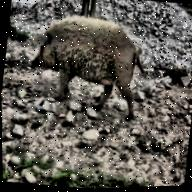boar: (18, 5, 152, 126)
